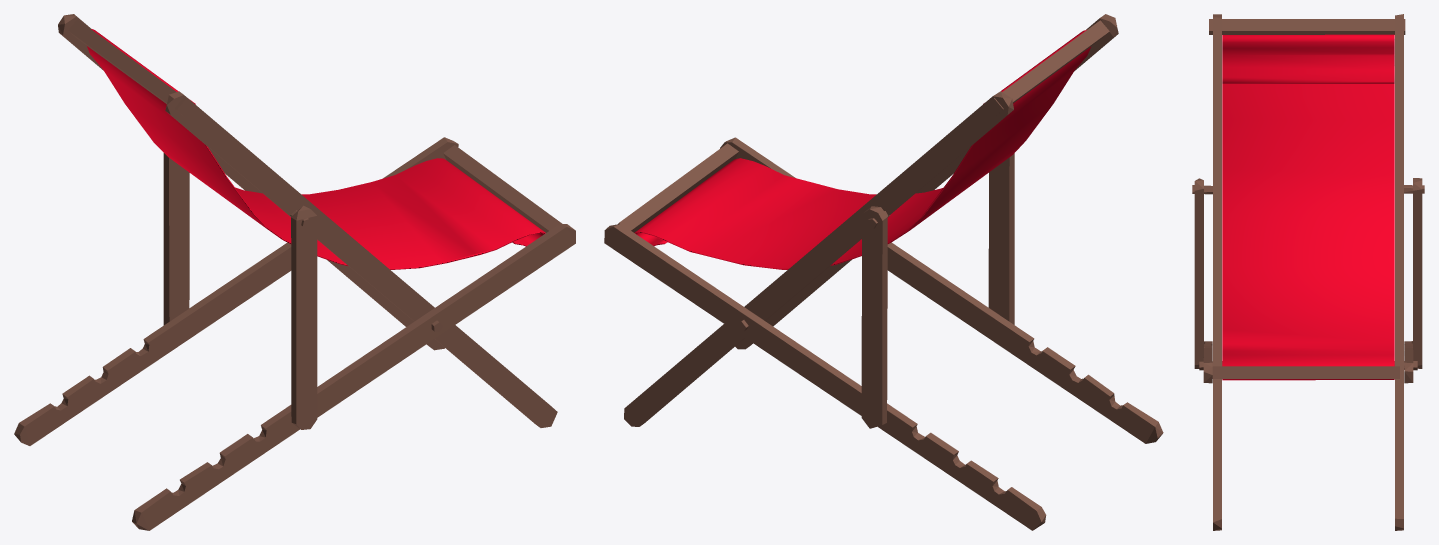
The model's file is Sillas.fbx.
The picture shows the model from 3 angles, left to right: view 1: azimuth 30°, elevation 25°; view 2: azimuth 150°, elevation 25°; view 3: azimuth 270°, elevation 25°; orthographic projection. The views are drawn at different scales.
Parts seen in each view (by area): view 1: silla_01; view 2: silla_01; view 3: silla_01.
Boxes of the visible parts, <box> form: silla_01: <box>14,14,575,530</box>; silla_01: <box>604,14,1163,530</box>; silla_01: <box>1192,14,1424,530</box>.
Bounding box in the file's own units: 13.95 × 12.83 × 7.46.
